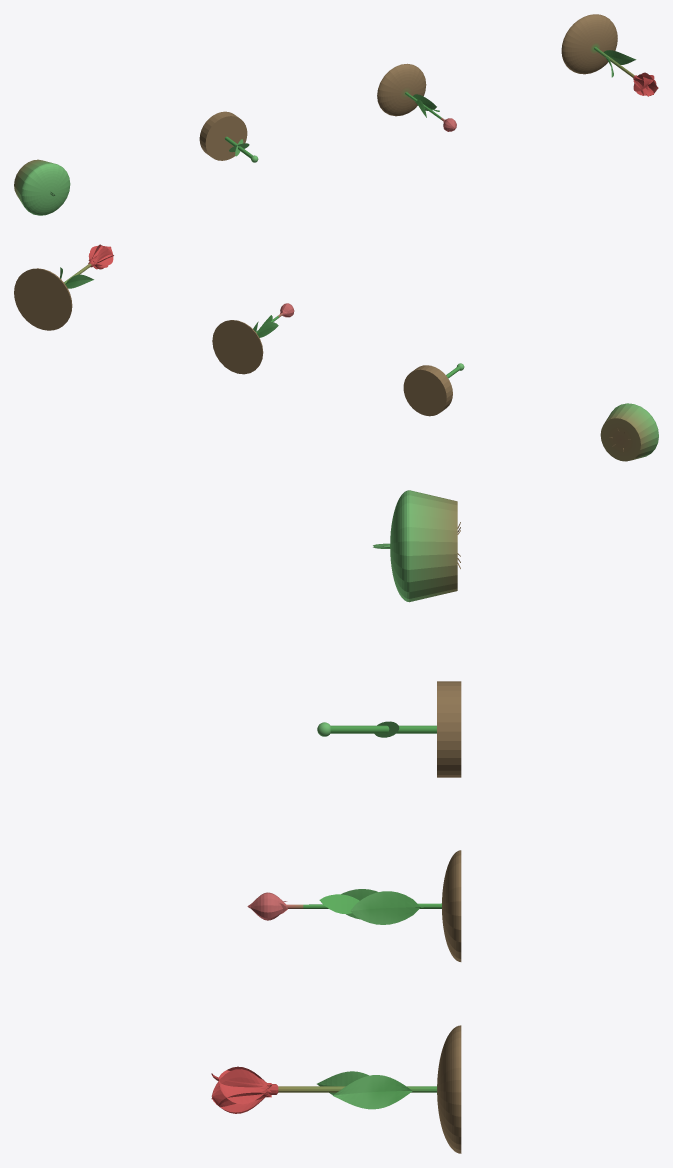
Rendered from tulip.glb.
3 views of the same model, one above another, from view 1: azimuth 30°, elevation 25°; view 2: azimuth 150°, elevation 25°; view 3: azimuth 270°, elevation 25° (orthographic). The views are drawn at different scales.
Parts seen in each view (by area): view 1: full, stage1_seedling, stage2_budding, stage1b_young_sprout; view 2: full, stage1_seedling, stage2_budding, stage1b_young_sprout; view 3: full, stage1_seedling, stage2_budding, stage1b_young_sprout.
Boxes of the visible parts, bbox=[...] form: full: bbox=[561, 14, 658, 96]; stage1_seedling: bbox=[14, 159, 70, 215]; stage2_budding: bbox=[377, 63, 456, 131]; stage1b_young_sprout: bbox=[199, 111, 258, 162]; full: bbox=[14, 244, 113, 330]; stage1_seedling: bbox=[600, 403, 658, 461]; stage2_budding: bbox=[212, 303, 294, 374]; stage1b_young_sprout: bbox=[403, 363, 464, 416]; full: bbox=[211, 1025, 461, 1153]; stage1_seedling: bbox=[373, 490, 460, 602]; stage2_budding: bbox=[247, 850, 461, 961]; stage1b_young_sprout: bbox=[317, 681, 461, 777].
Size of the model in its own units: 87.5 by 8 by 15.51.
